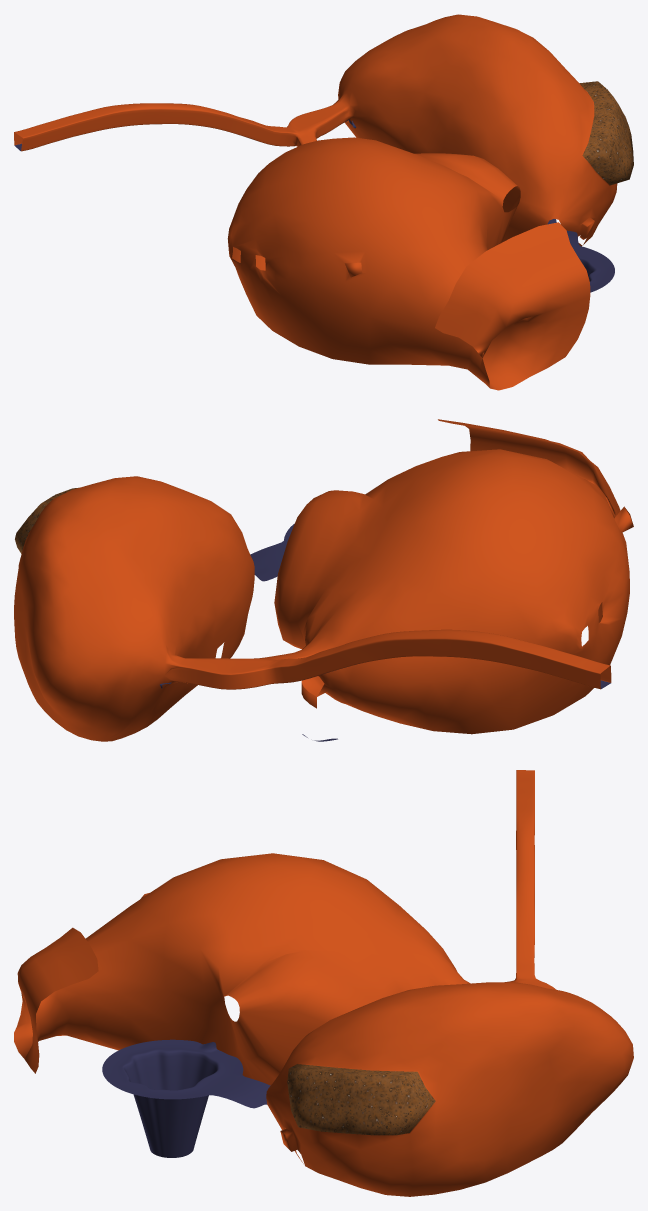
File: ShellV2_NoRamp.fbx
The picture shows the model from 3 angles, top to bottom: view 1: azimuth 30°, elevation 25°; view 2: azimuth 150°, elevation 25°; view 3: azimuth 270°, elevation 25°; orthographic projection. The views are drawn at different scales.
Visible parts, largest first — view 1: Shell; view 2: Shell; view 3: Shell.
Boxes of the visible parts, box(x1,y1,x2,y2) form: Shell: box(14, 14, 633, 390); Shell: box(14, 419, 633, 741); Shell: box(14, 770, 633, 1196).
Size of the model in its own units: 13981 by 4868 by 12895.
